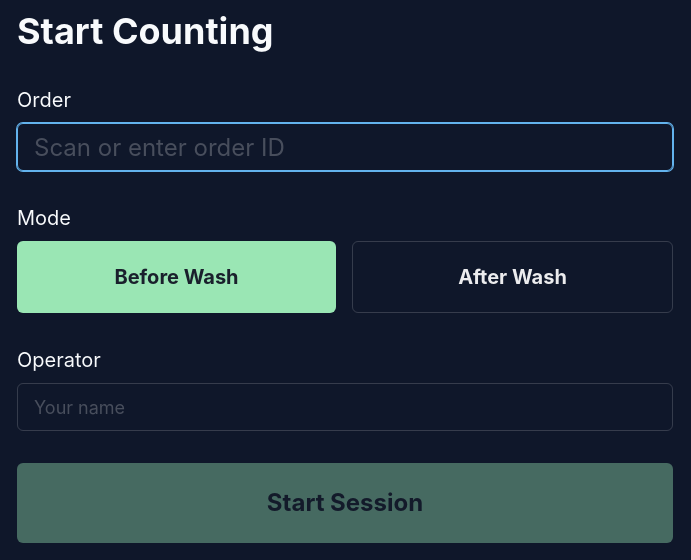
Test: SessionStartScreen › disables Start until an order id and operator are provided (Req 6.1)
Expected: the button "Start Session" is disabled, [17, 463, 673, 543]
Type "IS-42" into the field labelled "order ID". click: (345, 147)
box: [17, 123, 673, 171]
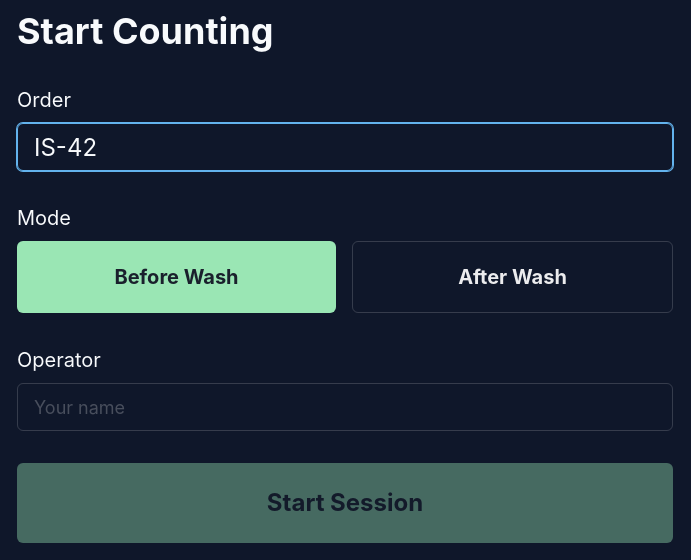
Type "Jane" into the field named "Operator name". click: (345, 407)
box: [17, 383, 673, 431]
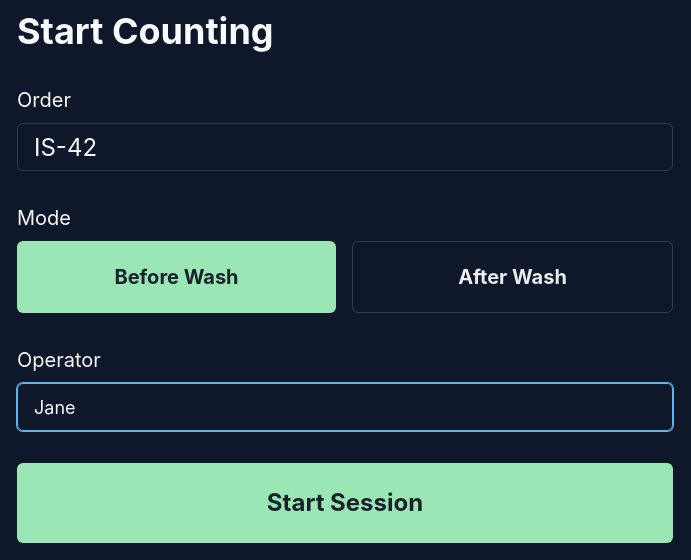
Now the button "Start Session" is enabled, box [17, 463, 673, 543]
